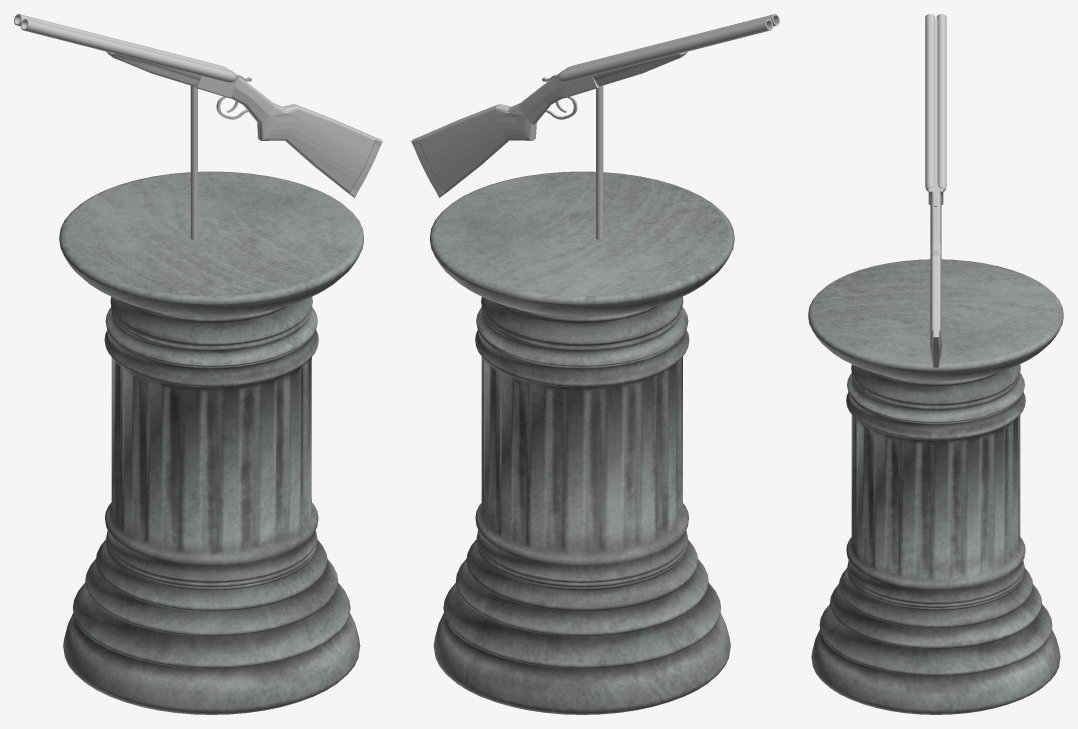
Rendered from DoubleBarrelPedestal.fbx.
3 renders of one model, left to right at view 1: azimuth 30°, elevation 25°; view 2: azimuth 150°, elevation 25°; view 3: azimuth 270°, elevation 25°, orthographic. The views are drawn at different scales.
Parts seen in each view (by area): view 1: Cylinder.003, Cube.001_Cube.002; view 2: Cylinder.003, Cube.001_Cube.002; view 3: Cylinder.003, Cube.001_Cube.002.
Boxes of the visible parts, bbox=[...] form: Cylinder.003: bbox=[59, 171, 363, 714]; Cube.001_Cube.002: bbox=[14, 14, 382, 239]; Cylinder.003: bbox=[430, 171, 734, 714]; Cube.001_Cube.002: bbox=[411, 14, 779, 239]; Cylinder.003: bbox=[808, 259, 1063, 714]; Cube.001_Cube.002: bbox=[925, 14, 946, 367].
Bounding box in the file's own units: 304 × 548 × 221.
